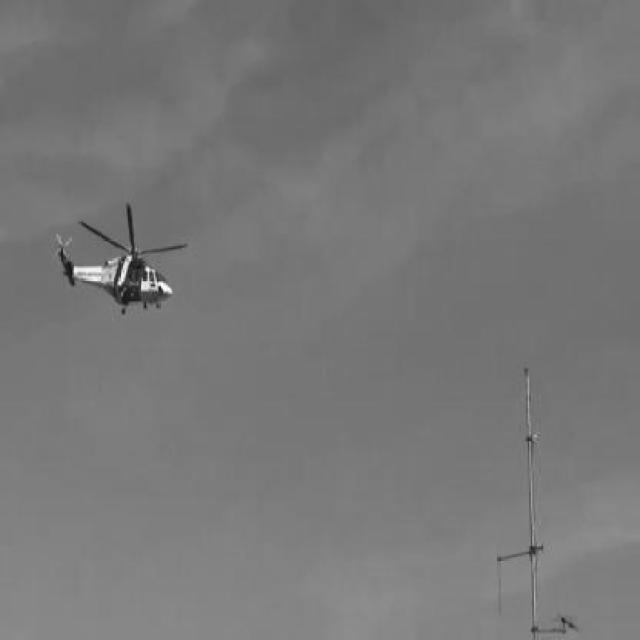helikopter: (46, 188, 188, 328)
